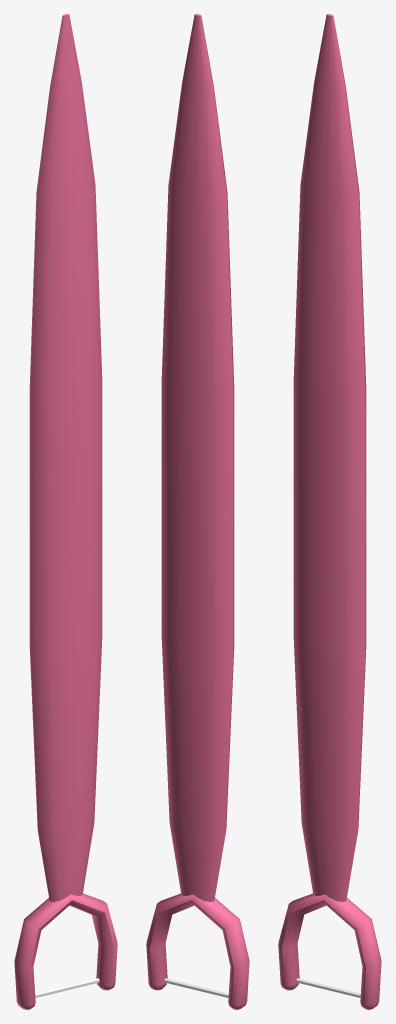
Rendered from tool_flosspick.glb.
3 renders of one model, left to right at view 1: azimuth 30°, elevation 25°; view 2: azimuth 150°, elevation 25°; view 3: azimuth 330°, elevation 25°, orthographic.
Parts seen in each view (by area): view 1: tool_flosspick; view 2: tool_flosspick; view 3: tool_flosspick.
Boxes of the visible parts, box(x1,y1,x2,y2) form: tool_flosspick: box(14, 14, 117, 1009); tool_flosspick: box(146, 14, 249, 1009); tool_flosspick: box(278, 14, 381, 1009).
Bounding box in the file's own units: 0.895 × 8.49 × 0.312.
